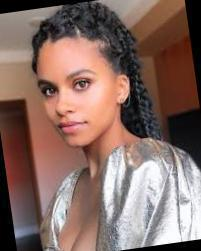Sober: (40, 45, 116, 142)
